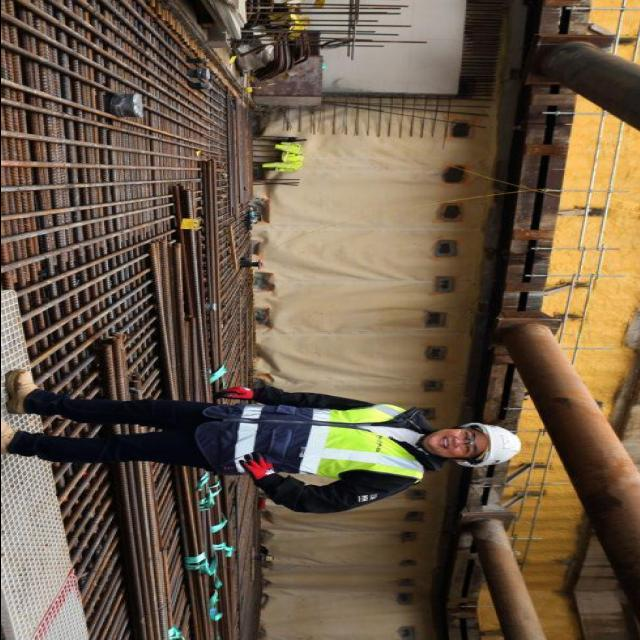helmet: (454, 414, 524, 470)
jacket: (215, 397, 437, 485)
